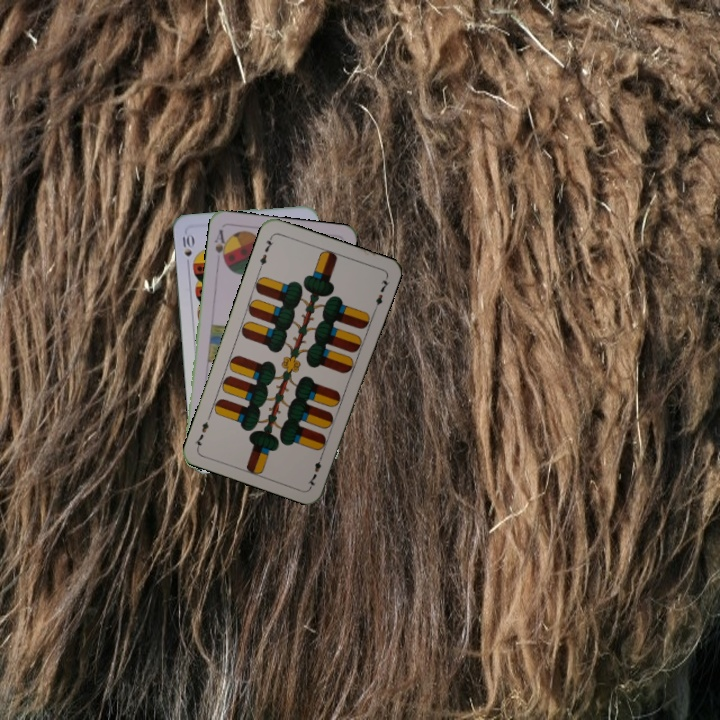E7: (303, 450, 326, 489), (255, 232, 276, 272)
S10: (179, 230, 195, 259)
SA: (210, 225, 230, 266)
